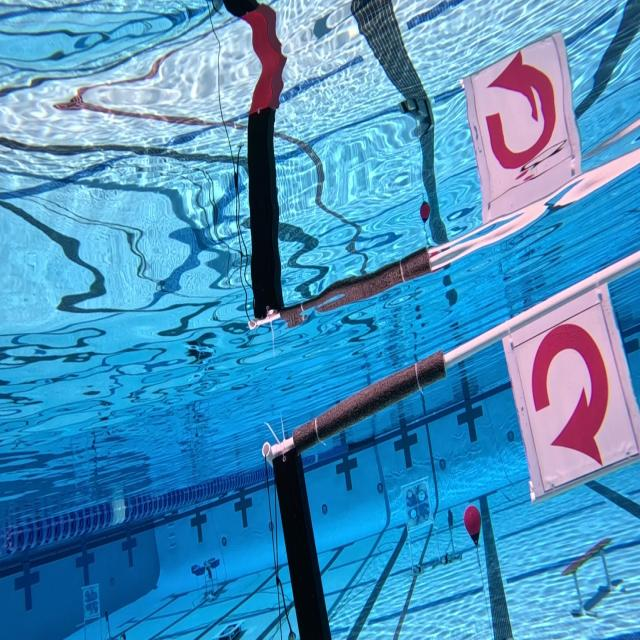red_side: (506, 316, 637, 464)
